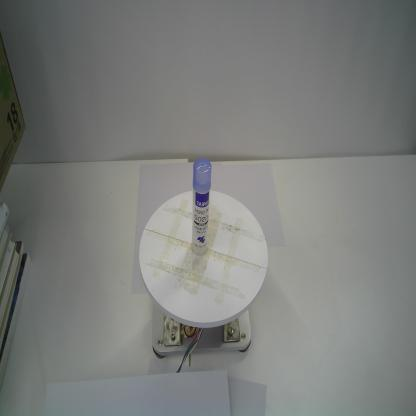Stationery: (190, 156, 213, 258)
